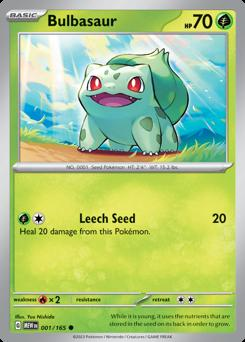card: (2, 1, 245, 342)
hp: (183, 10, 235, 31)
name: (45, 11, 121, 30)
set num: (40, 323, 69, 332)
set symbol: (21, 320, 40, 332)
